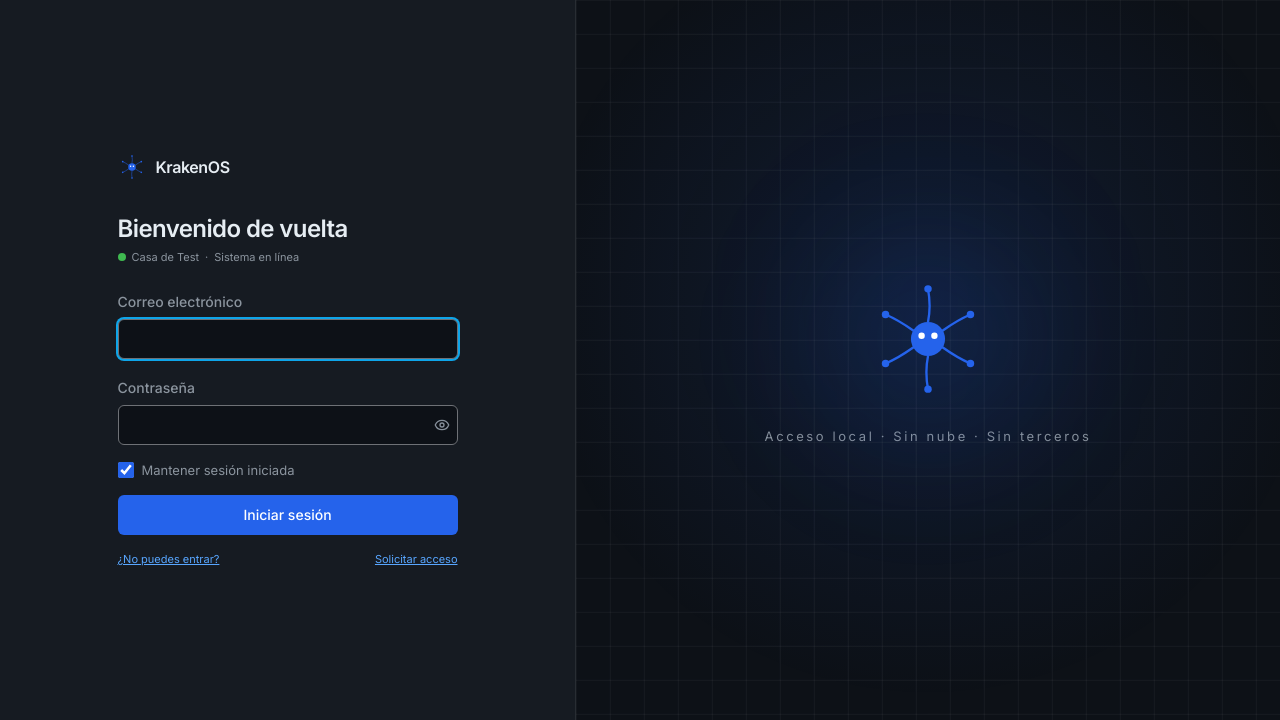
LoginPage › muestra el mensaje de credenciales ante un 401
The width and height of the screenshot is (1280, 720).
Type "admin@krakenos.local" into the field labelled "Correo electrónico" at point(288, 339), box [118, 319, 458, 359]
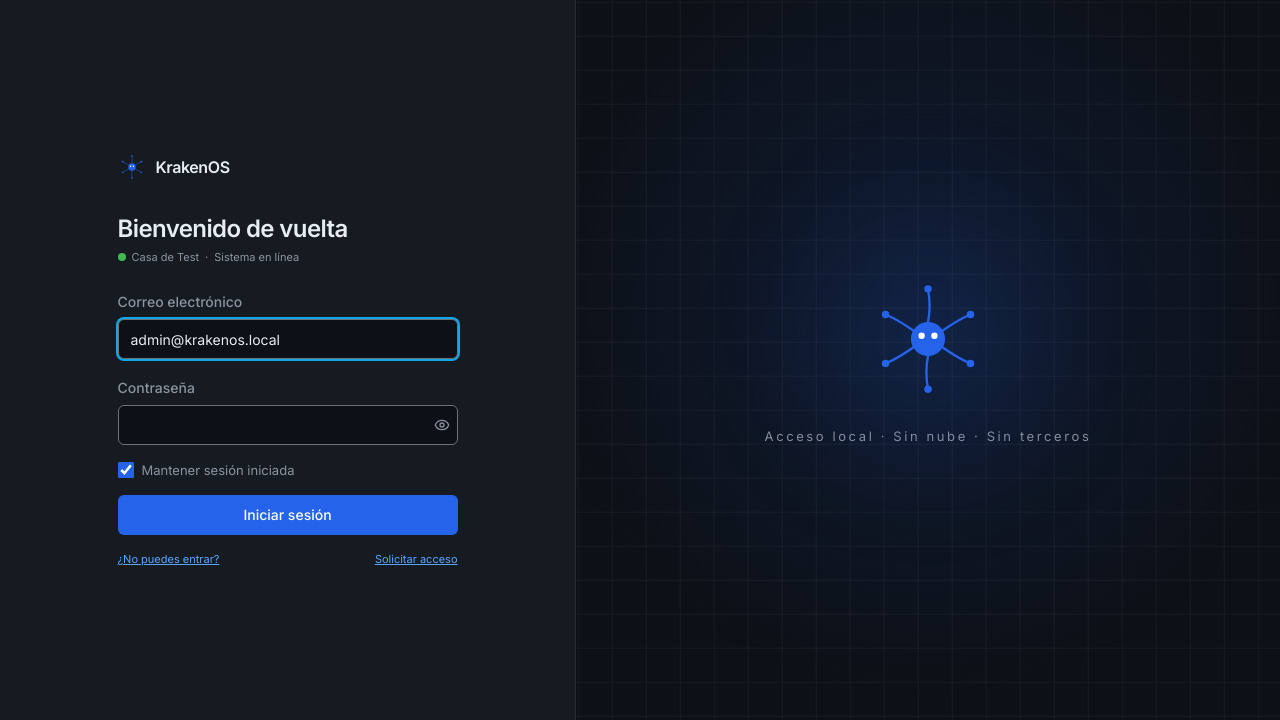
Type "mala12345" into the password field labelled "Contraseña" at point(288, 425), box [118, 405, 458, 445]
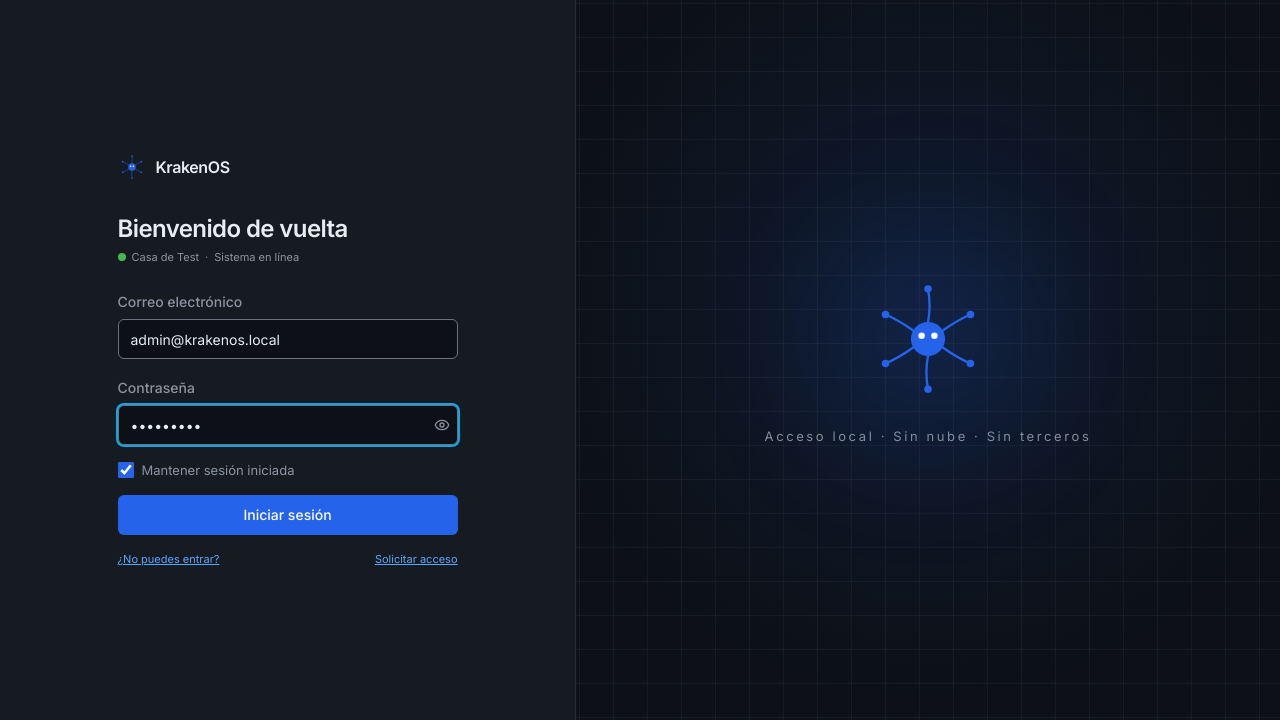
Click the button "Iniciar sesión" at point(288, 515), box [118, 495, 458, 535]
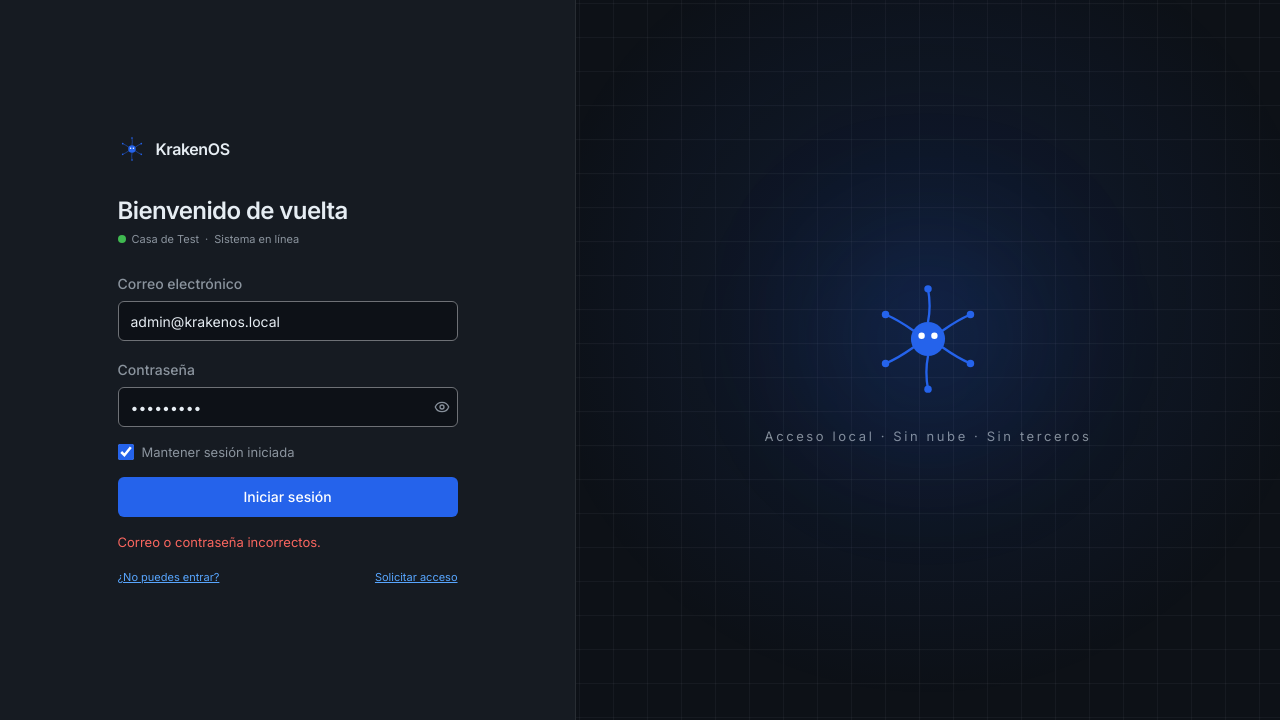
Expected: the text "Correo o contraseña incorrectos." is shown, [118, 534, 321, 550]
